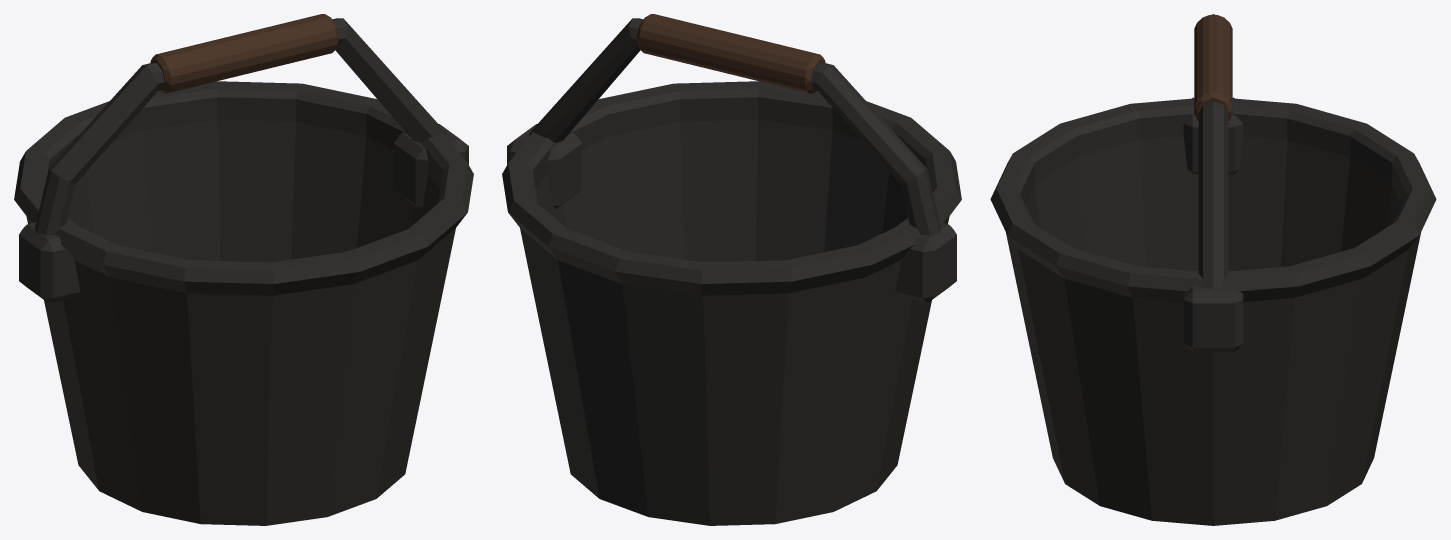
The model's file is zinc_bucket.glb.
3 renders of one model, left to right at view 1: azimuth 30°, elevation 25°; view 2: azimuth 150°, elevation 25°; view 3: azimuth 270°, elevation 25°, orthographic. The views are drawn at different scales.
Parts seen in each view (by area): view 1: zinc_bucket; view 2: zinc_bucket; view 3: zinc_bucket.
Part boxes in pixels (x1,y1,x2,y2): zinc_bucket: (14, 14, 473, 525); zinc_bucket: (502, 14, 961, 525); zinc_bucket: (990, 14, 1436, 525).
Bounding box in the file's own units: 0.32 × 0.2999 × 0.3.
